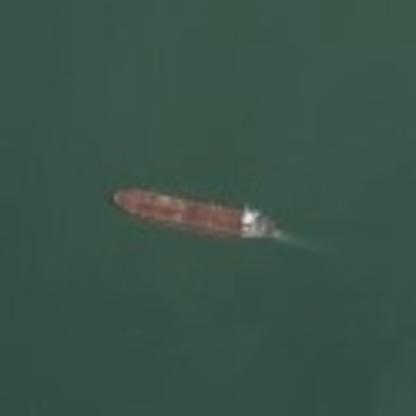ship: (100, 177, 301, 260)
